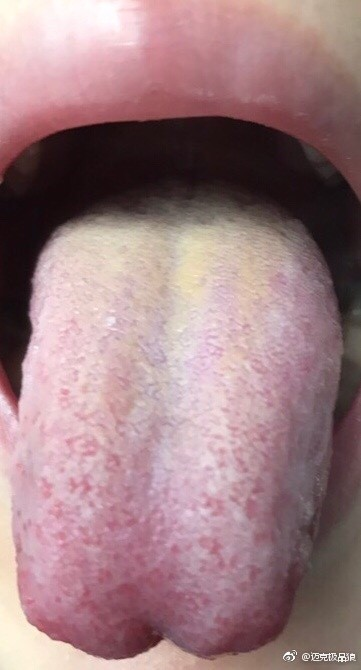huangtaishe: (14, 183, 342, 660)
xinfeiao: (93, 614, 222, 661)
